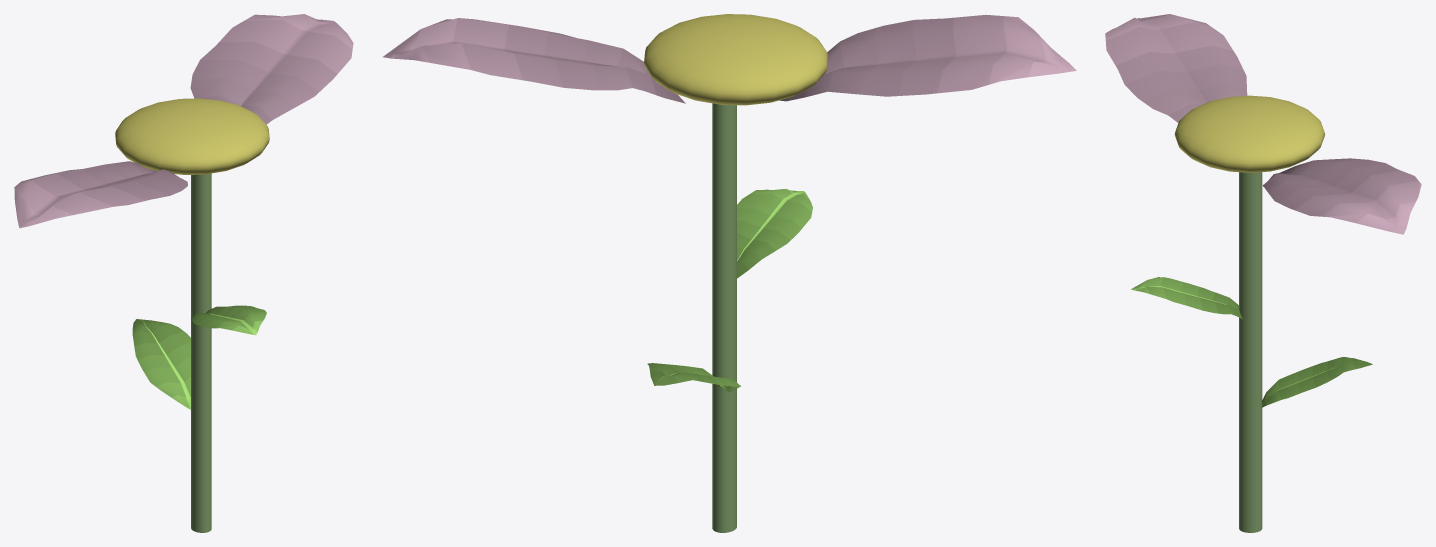
Rendered from pink2flowers.fbx.
3 renders of one model, left to right at view 1: azimuth 30°, elevation 25°; view 2: azimuth 150°, elevation 25°; view 3: azimuth 270°, elevation 25°, orthographic. The views are drawn at different scales.
Parts seen in each view (by area): view 1: pasted__pasted__pasted__pasted__pasted__polySurface1, pSphere1, pasted__pCylinder1, polySurface1, pasted__polySurface1; view 2: pasted__pasted__pasted__pasted__pasted__polySurface1, pSphere1, pasted__pCylinder1, pasted__polySurface1, polySurface1; view 3: pasted__pasted__pasted__pasted__pasted__polySurface1, pSphere1, pasted__pCylinder1, pasted__polySurface1, polySurface1.
Part boxes in pixels (bbox=[...]): pasted__pasted__pasted__pasted__pasted__polySurface1: bbox=[14, 14, 353, 228]; pSphere1: bbox=[115, 98, 269, 174]; pasted__pCylinder1: bbox=[191, 173, 211, 532]; polySurface1: bbox=[132, 319, 190, 409]; pasted__polySurface1: bbox=[191, 305, 266, 335]; pasted__pasted__pasted__pasted__pasted__polySurface1: bbox=[382, 15, 1076, 103]; pSphere1: bbox=[644, 14, 828, 105]; pasted__pCylinder1: bbox=[712, 103, 736, 532]; pasted__polySurface1: bbox=[736, 189, 812, 278]; polySurface1: bbox=[647, 363, 740, 392]; pasted__pasted__pasted__pasted__pasted__polySurface1: bbox=[1105, 14, 1421, 234]; pSphere1: bbox=[1174, 95, 1325, 172]; pasted__pCylinder1: bbox=[1239, 172, 1262, 532]; pasted__polySurface1: bbox=[1131, 277, 1242, 319]; polySurface1: bbox=[1262, 357, 1372, 407].
Size of the model in its own units: 0.6459 by 0.5783 by 0.3986.
